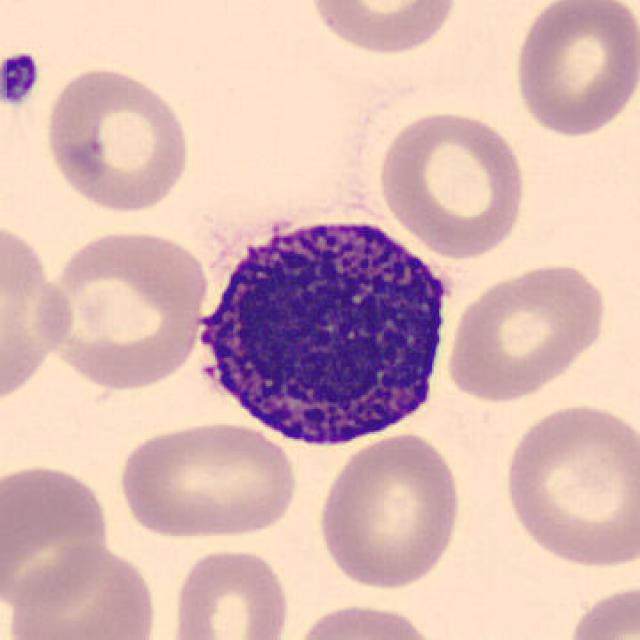Basophil: (183, 198, 459, 453)
Platelets: (0, 50, 43, 110)
RBC: (34, 224, 210, 395), (313, 428, 466, 592), (442, 257, 612, 404), (498, 398, 638, 572), (373, 104, 530, 259), (112, 416, 302, 543), (41, 62, 194, 215), (508, 0, 638, 139), (0, 458, 114, 616), (3, 541, 162, 640), (0, 213, 76, 410), (167, 545, 293, 640), (304, 0, 462, 56), (288, 599, 444, 640), (560, 578, 640, 640)
